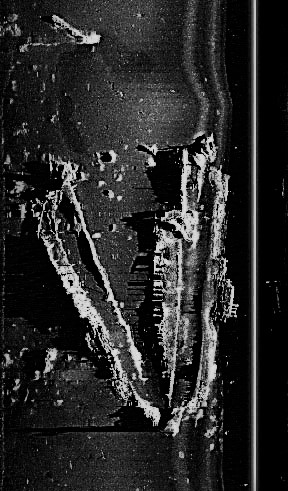ship: (27, 131, 243, 435)
